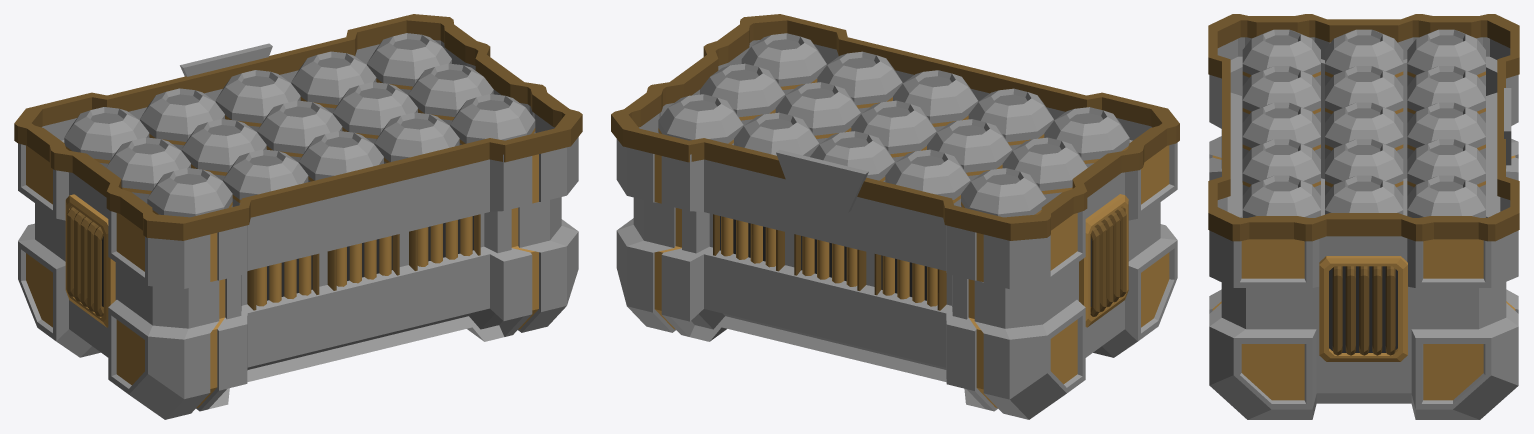
Rendered from Props_ContainerFull.glb.
3 renders of one model, left to right at view 1: azimuth 30°, elevation 25°; view 2: azimuth 150°, elevation 25°; view 3: azimuth 270°, elevation 25°, orthographic.
Parts seen in each view (by area): view 1: Props_ContainerFull; view 2: Props_ContainerFull; view 3: Props_ContainerFull.
Part boxes in pixels (<box>): Props_ContainerFull: <box>14,14,582,419</box>; Props_ContainerFull: <box>611,14,1179,419</box>; Props_ContainerFull: <box>1208,14,1519,419</box>.
Size of the model in its own units: 1.2 by 0.5824 by 0.7517.
